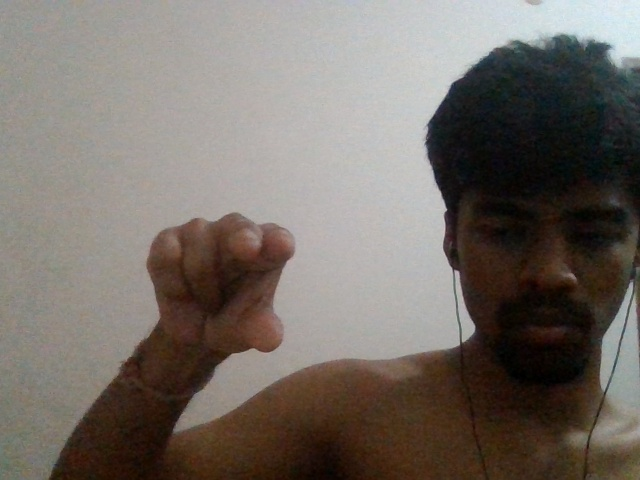No: (133, 206, 297, 362)
